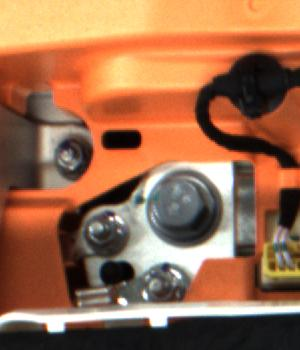nut_b: (143, 164, 228, 248)
